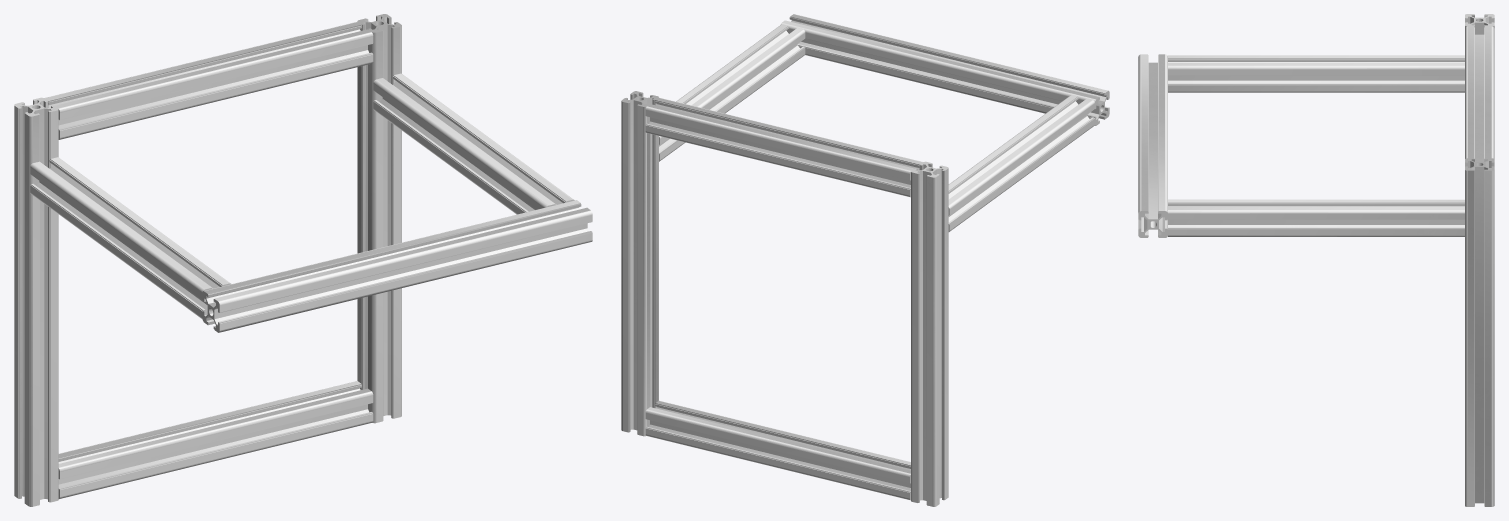
The model's file is Frame.obj.
The picture shows the model from 3 angles, left to right: view 1: azimuth 30°, elevation 25°; view 2: azimuth 150°, elevation 25°; view 3: azimuth 270°, elevation 25°; orthographic projection. The views are drawn at different scales.
Parts seen in each view (by area): view 1: 5d40dfb7e5c46215e1d5d29c_ID3; view 2: 5d40dfb7e5c46215e1d5d29c_ID3; view 3: 5d40dfb7e5c46215e1d5d29c_ID3.
Part boxes in pixels (x1,y1,x2,y2): 5d40dfb7e5c46215e1d5d29c_ID3: (14,14,592,506); 5d40dfb7e5c46215e1d5d29c_ID3: (621,14,1109,506); 5d40dfb7e5c46215e1d5d29c_ID3: (1138,14,1494,506).
Bounding box in the file's own units: 250 × 250 × 240.
Materials: 1 (1 with a texture image).
